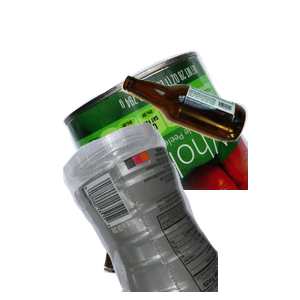glass: (119, 73, 300, 207)
metal: (60, 48, 300, 228)
plastic: (60, 120, 300, 300)
trash: (101, 157, 270, 300)
